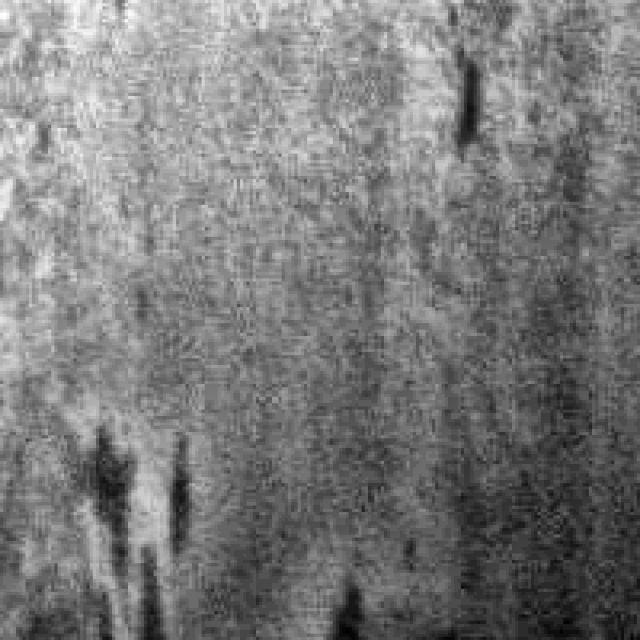Patches: (64, 412, 202, 628), (432, 32, 493, 166)
